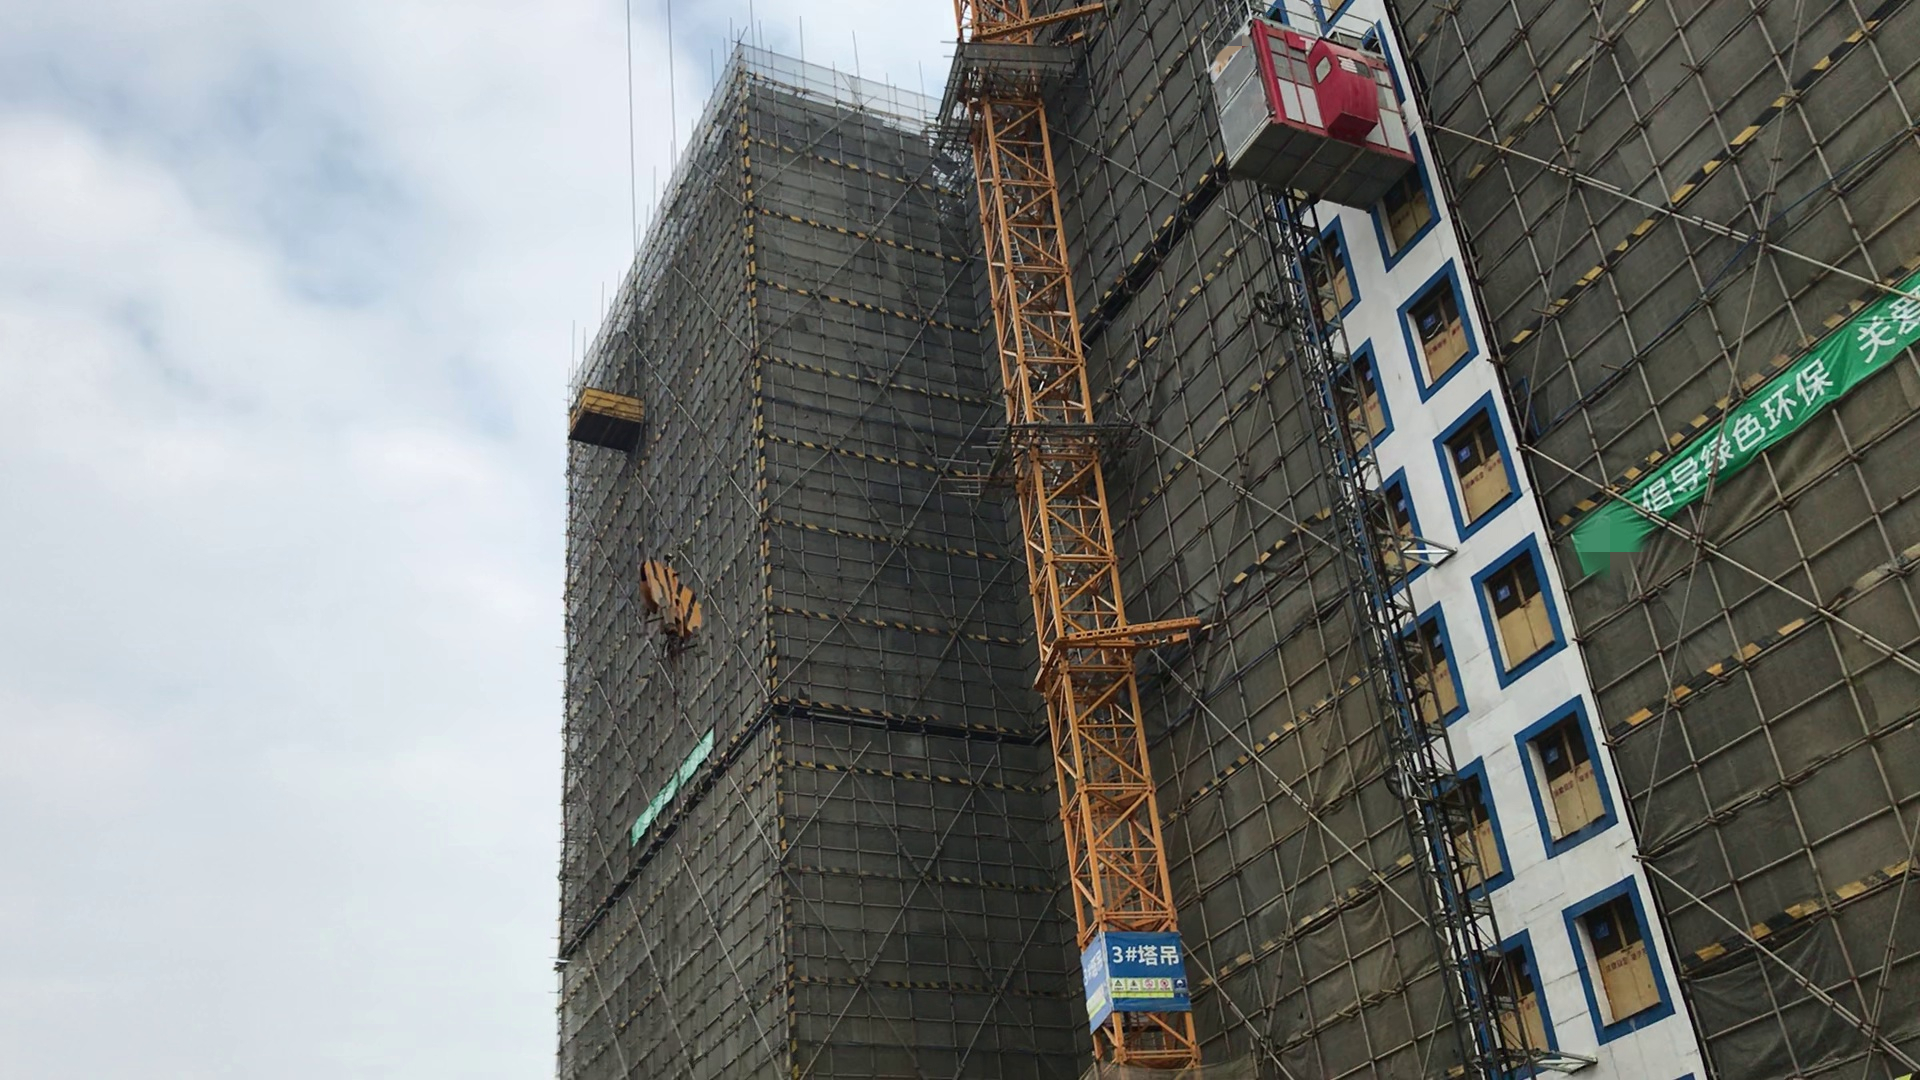hook: (636, 546, 715, 659)
slogan: (1601, 287, 1920, 546)
